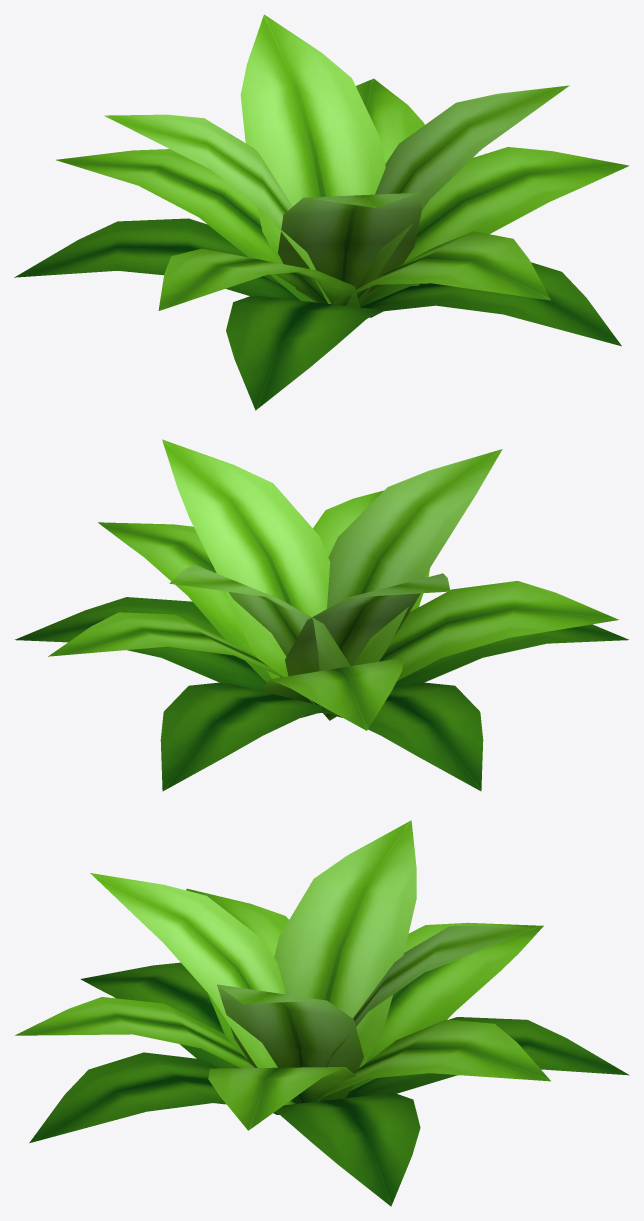
File: grass.fbx
3 renders of one model, top to bottom at view 1: azimuth 30°, elevation 25°; view 2: azimuth 150°, elevation 25°; view 3: azimuth 270°, elevation 25°, orthographic. The views are drawn at different scales.
Visible parts, largest first — view 1: pPlane15; view 2: pPlane15; view 3: pPlane15.
Part boxes in pixels (left/top/right/bottom): pPlane15: left=14, top=14, right=629, bottom=410; pPlane15: left=15, top=439, right=628, bottom=791; pPlane15: left=15, top=820, right=629, bottom=1206.
Bounding box in the file's own units: 3.37 × 1.29 × 3.52.
Materials: 1 (1 with a texture image).
